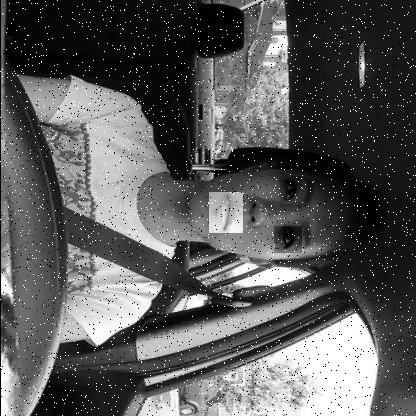seatbelt: (61, 144, 398, 289)
